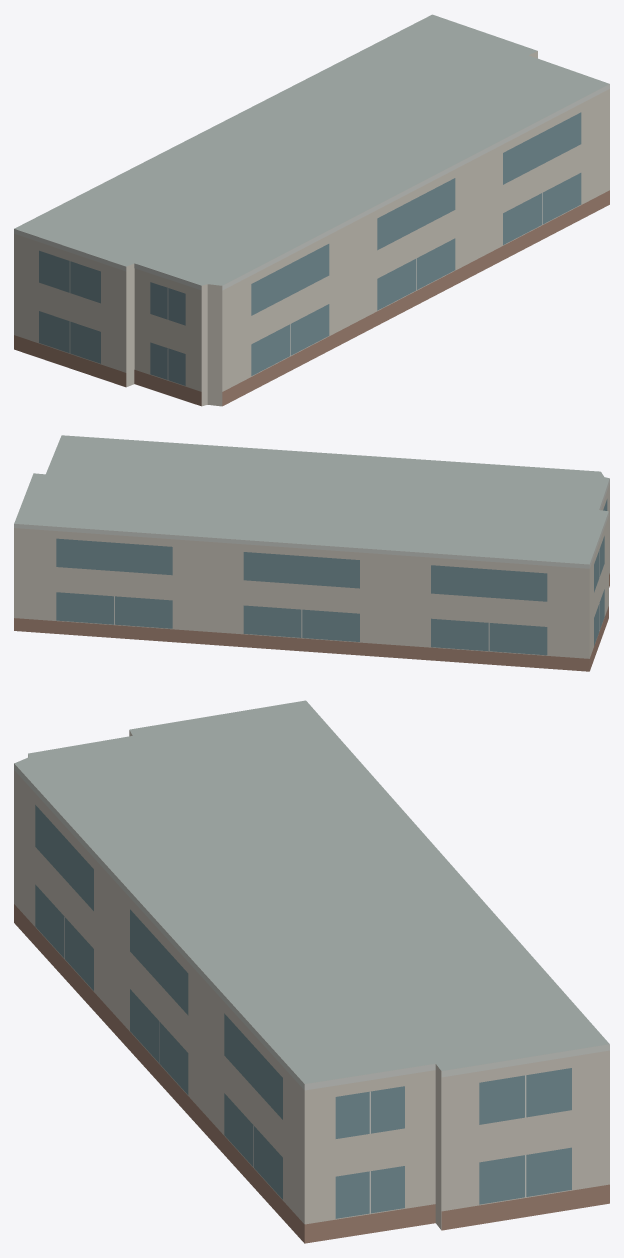
Rendered from survey-upis-32582200.glb.
The picture shows the model from 3 angles, top to bottom: view 1: azimuth 30°, elevation 25°; view 2: azimuth 150°, elevation 25°; view 3: azimuth 270°, elevation 25°; orthographic projection. The views are drawn at different scales.
Visible parts, largest first — view 1: survey-upis-32582200.tmp; view 2: survey-upis-32582200.tmp; view 3: survey-upis-32582200.tmp.
Part boxes in pixels (<box>): survey-upis-32582200.tmp: <box>14,14,609,406</box>; survey-upis-32582200.tmp: <box>14,435,609,671</box>; survey-upis-32582200.tmp: <box>14,700,609,1243</box>.
Bounding box in the file's own units: 31.5 × 6.1 × 20.67.
